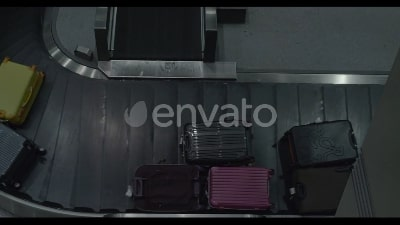baggage: (127, 160, 204, 213), (284, 117, 361, 165), (1, 120, 51, 193), (204, 162, 278, 211), (178, 122, 255, 167), (1, 55, 49, 124), (290, 169, 351, 210)
